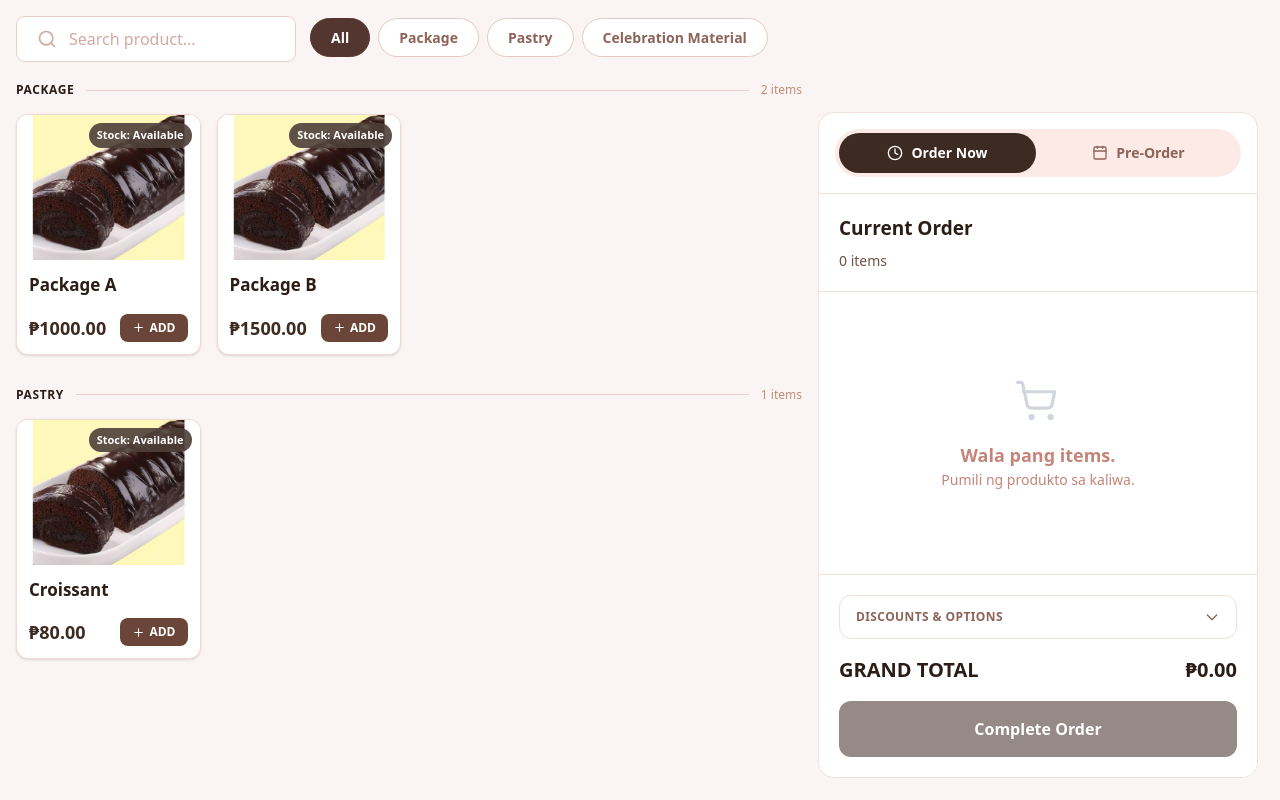
POSPage › filters products using search
This screenshot has width=1280, height=800.
expect the heading "Package A" is shown: met, box [29,273,116,296]
Type "Package A" into the field with placeholder "Search product...".
click(172, 39); type("Package A")  # box [69,27,275,51]
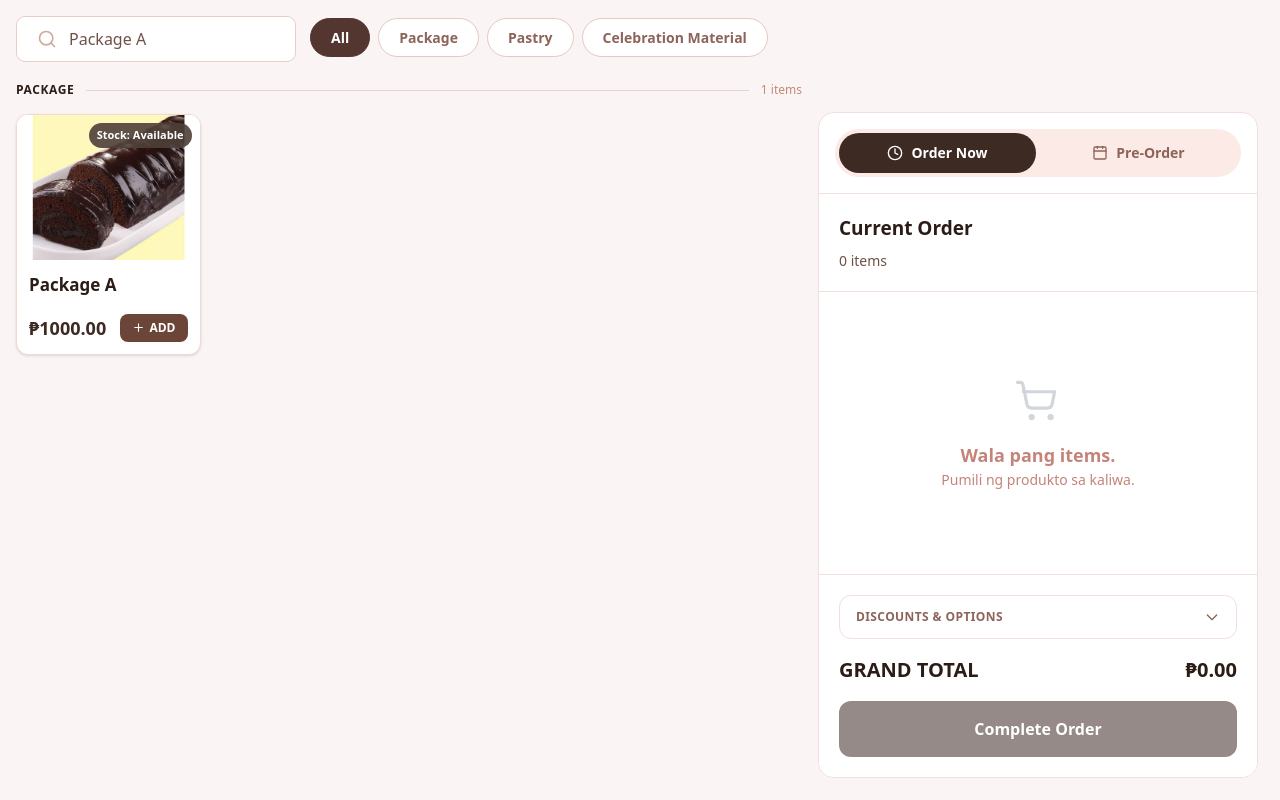
expect the heading "Package A" is shown: met, box [29,273,116,296]
expect the heading "Package B" is gone: met
expect the heading "Croissant" is gone: met
